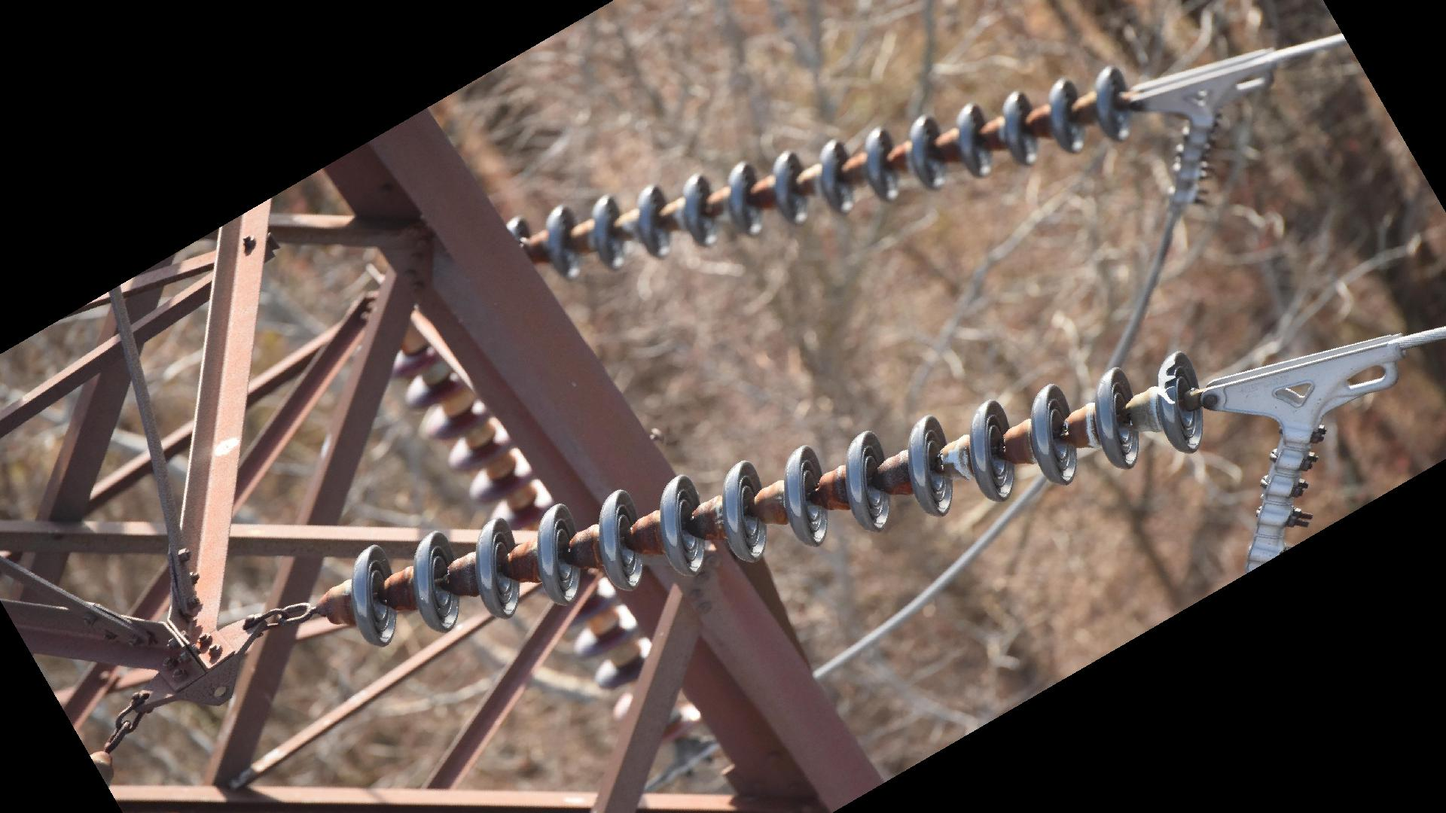insulator: (346, 343, 1210, 652), (505, 56, 1133, 279), (378, 339, 554, 527), (563, 588, 705, 744)
insulator_breakage: (1152, 349, 1186, 409)
